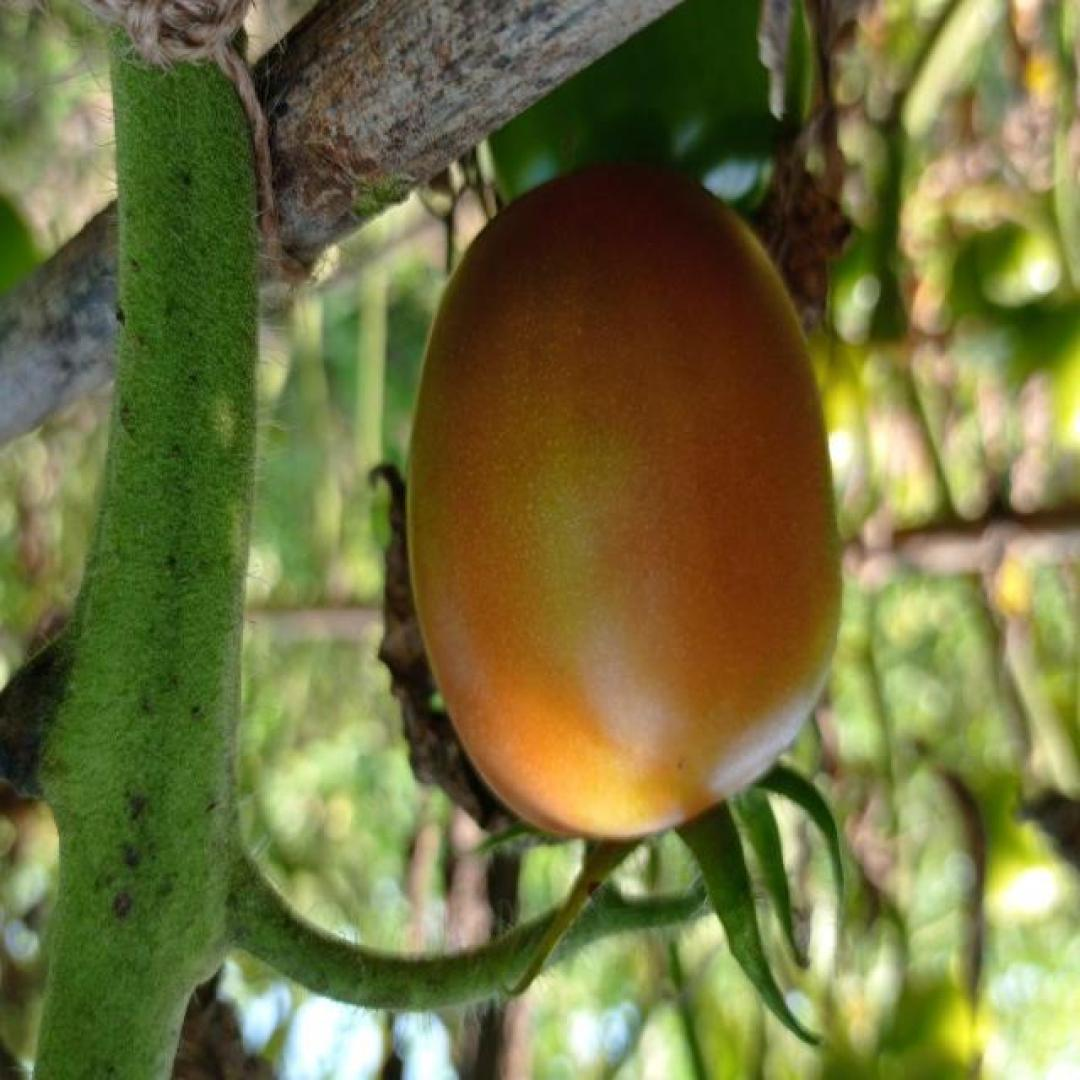setengah_matang: (404, 156, 846, 850)
